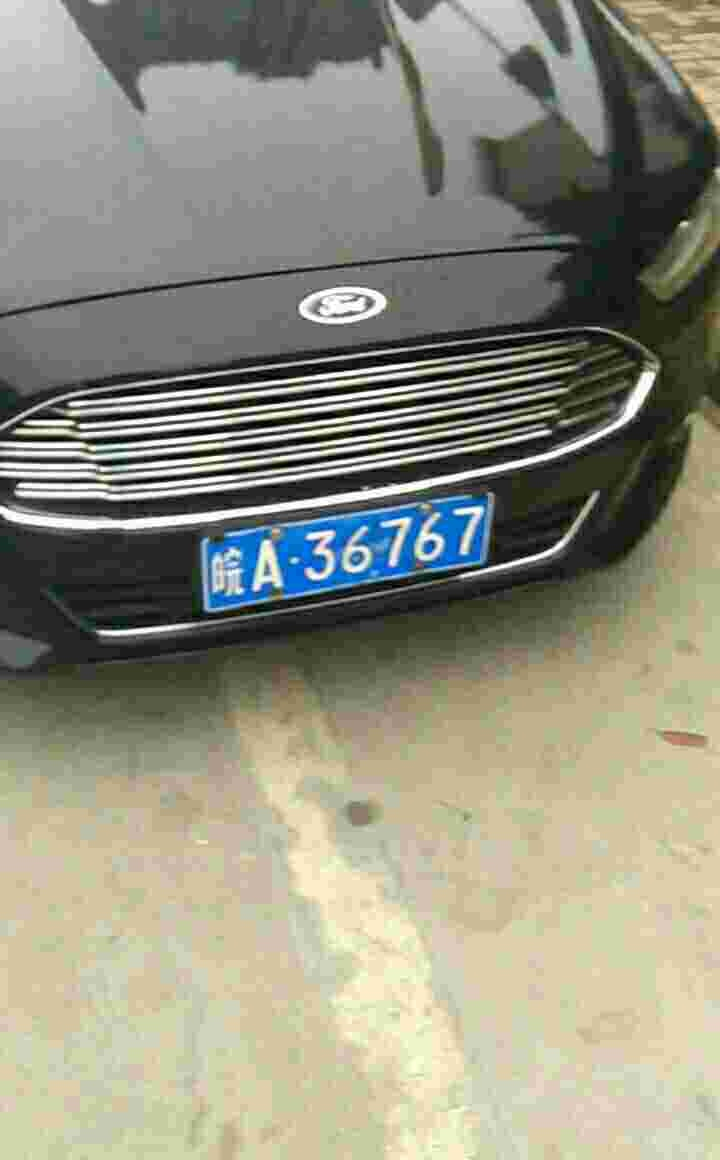license_plate: (214, 496, 497, 599)
